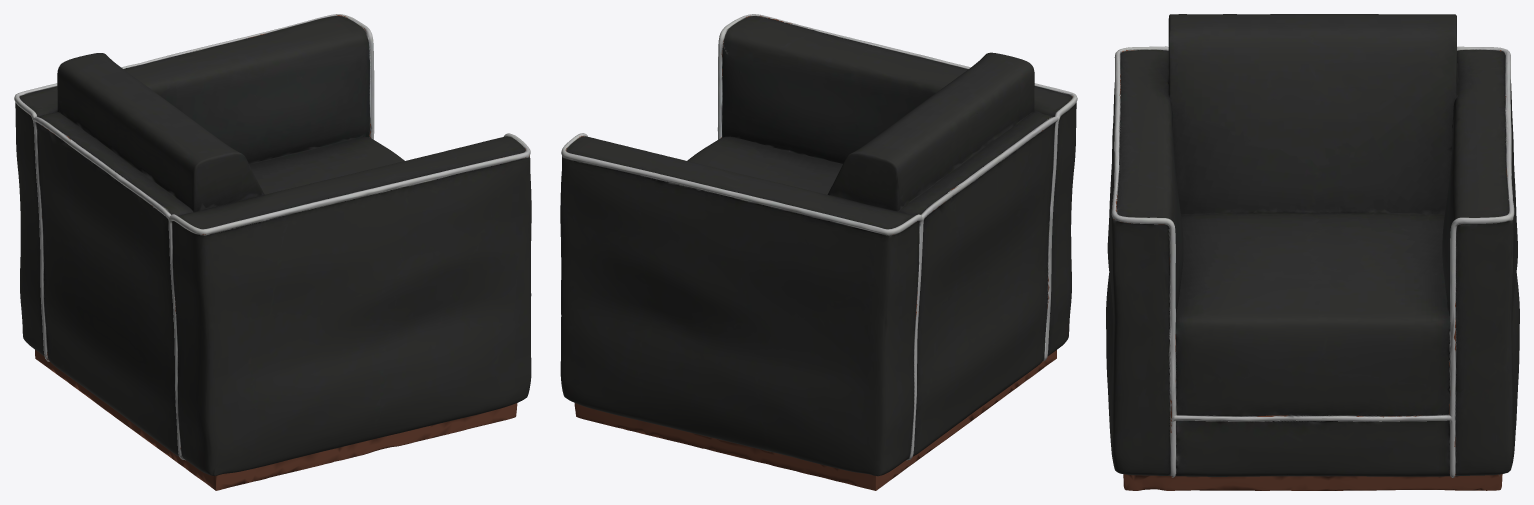
3 renders of one model, left to right at view 1: azimuth 30°, elevation 25°; view 2: azimuth 150°, elevation 25°; view 3: azimuth 270°, elevation 25°, orthographic. The views are drawn at different scales.
Parts seen in each view (by area): view 1: tripo_node_b2c8a8ff-3d68-4255-8c1a-1685b0ed09ad; view 2: tripo_node_b2c8a8ff-3d68-4255-8c1a-1685b0ed09ad; view 3: tripo_node_b2c8a8ff-3d68-4255-8c1a-1685b0ed09ad.
Part boxes in pixels (bbox=[...]): tripo_node_b2c8a8ff-3d68-4255-8c1a-1685b0ed09ad: bbox=[14, 14, 531, 490]; tripo_node_b2c8a8ff-3d68-4255-8c1a-1685b0ed09ad: bbox=[560, 14, 1077, 490]; tripo_node_b2c8a8ff-3d68-4255-8c1a-1685b0ed09ad: bbox=[1106, 14, 1519, 490].
Size of the model in its own units: 0.8 by 0.7 by 0.8.
2 materials, 1 textured.
